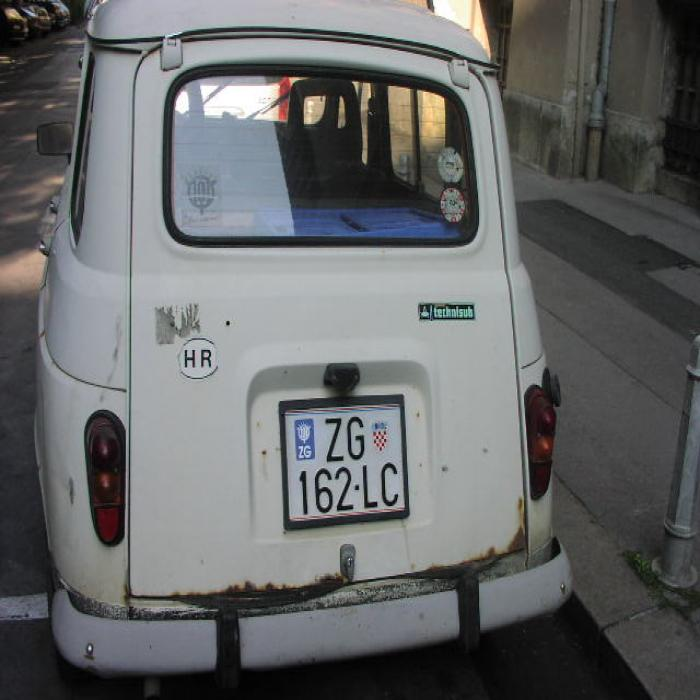number_plate: (284, 407, 404, 513)
